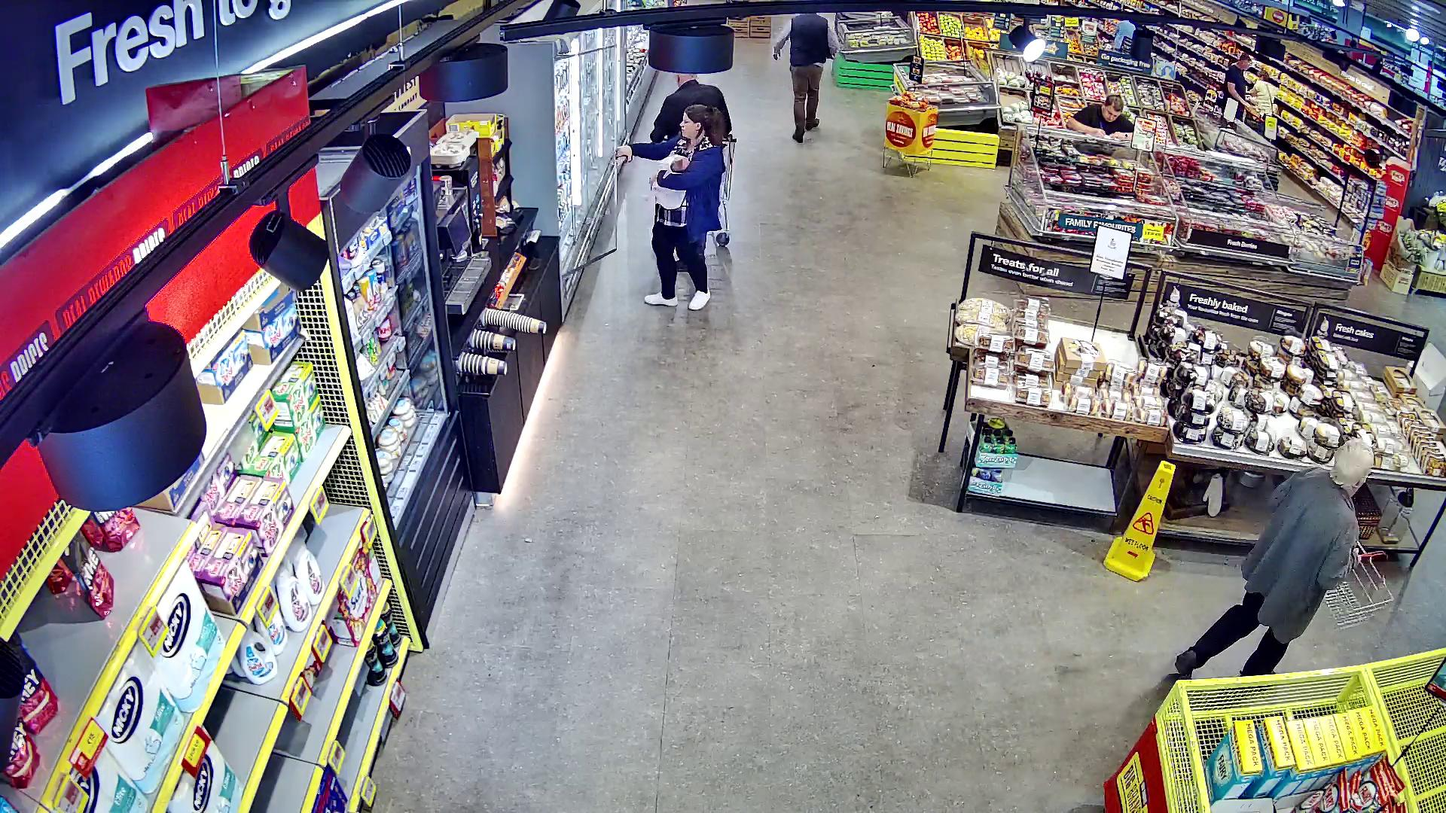empty-basket: (1323, 540, 1395, 631)
person: (1176, 438, 1375, 677)
person-with-empty-basket-trolly: (1176, 437, 1395, 677)
